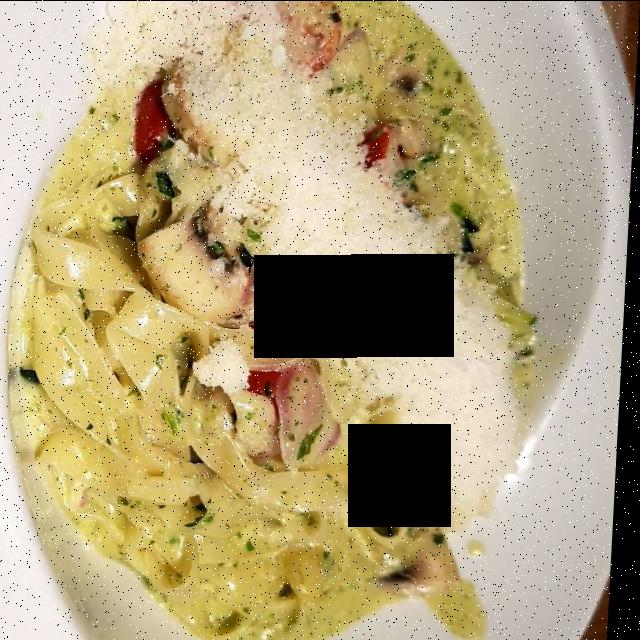parmesan: (99, 6, 536, 518)
pasta-linguini-parpadelle-tagliatelle: (33, 26, 526, 630)
tomato-raw: (147, 79, 410, 442)
